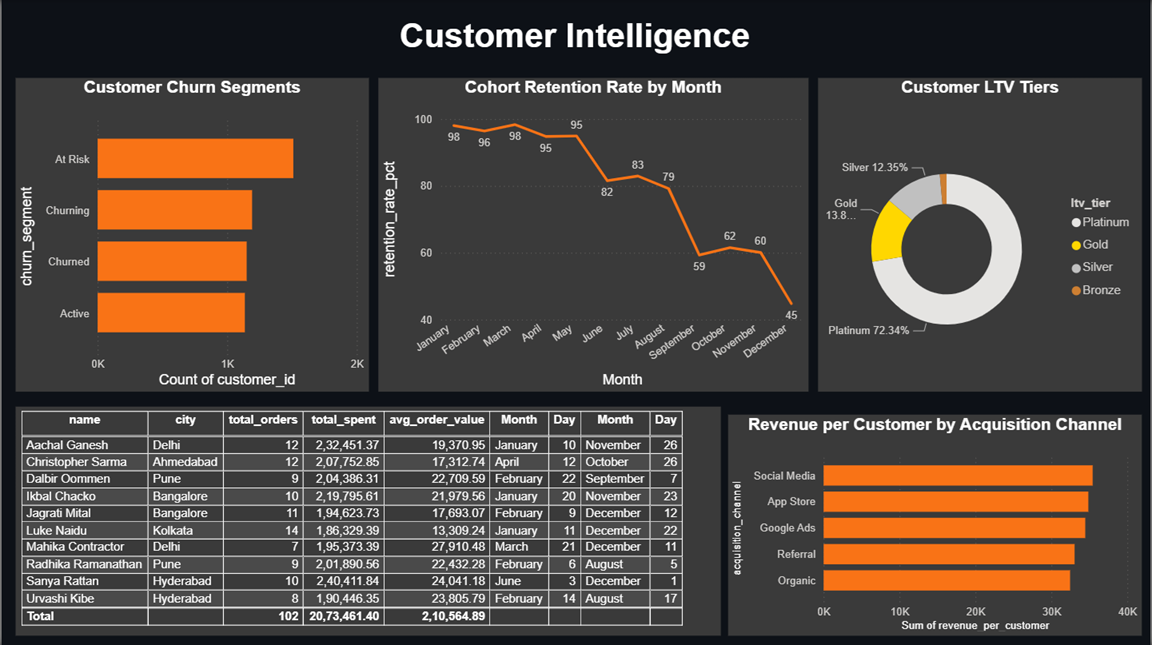

The page's visual inventory and layout, read from the dashboard file:
{"tool":"powerbi","page":{"name":"Customer Intelligence","canvas":[1280,720],"ordinal":1},"visuals":[{"type":"donutChart","title":"Customer LTV Tiers","fields":{"Category":["public vw_customer_ltv.ltv_tier"],"Y":["Sum(public vw_customer_ltv.total_revenue)"]},"box":[909.7,86.9,360.7,349.9],"z":0},{"type":"clusteredBarChart","title":"Customer Churn Segments","fields":{"Category":["public vw_churn_segments.churn_segment"],"Y":["CountNonNull(public vw_churn_segments.customer_id)"]},"box":[15.7,86.9,393.3,349.9],"z":1},{"type":"lineChart","title":"Cohort Retention Rate by Month","fields":{"Category":["public vw_cohort_retention.cohort_month.Variation.Date Hierarchy.Month"],"Y":["Avg(public vw_cohort_retention.retention_rate_pct)"]},"box":[419.8,86.9,479,349.9],"z":2},{"type":"clusteredBarChart","title":"Revenue per Customer by Acquisition Channel","fields":{"Category":["public vw_acquisition_channel.acquisition_channel"],"Y":["Sum(public vw_acquisition_channel.revenue_per_customer)"]},"box":[809.5,462.1,460.9,246.1],"z":3},{"type":"tableEx","fields":{"Values":["public vw_top_customers.name","public vw_top_customers.city","Sum(public vw_top_customers.total_orders)","Sum(public vw_top_customers.total_spent)","Sum(public vw_top_customers.avg_order_value)","public vw_top_customers.first_purchase.Variation.Date Hierarchy.Month","public vw_top_customers.first_purchase.Variation.Date Hierarchy.Day","public vw_top_customers.last_purchase.Variation.Date Hierarchy.Month","public vw_top_customers.last_purchase.Variation.Date Hierarchy.Day"]},"box":[15.7,462.1,785.4,246.1],"z":4},{"type":"textbox","box":[348.7,13.3,580.3,63.9],"z":5},{"type":"actionButton","box":[0,0,100,40],"z":6}]}

Visuals, with their boxes in screenshot pixels (x1, y1, x2, y2), scaled from the page's 1280x720 canvas onto the 1152x648 screenshot:
"Customer LTV Tiers" donutChart: bbox=[819, 78, 1143, 393]
"Customer Churn Segments" clusteredBarChart: bbox=[14, 78, 368, 393]
"Cohort Retention Rate by Month" lineChart: bbox=[378, 78, 809, 393]
"Revenue per Customer by Acquisition Channel" clusteredBarChart: bbox=[729, 416, 1143, 637]
tableEx - public vw_top_customers.name x public vw_top_customers.city: bbox=[14, 416, 721, 637]
textbox: bbox=[314, 12, 836, 69]
actionButton: bbox=[0, 0, 90, 36]
